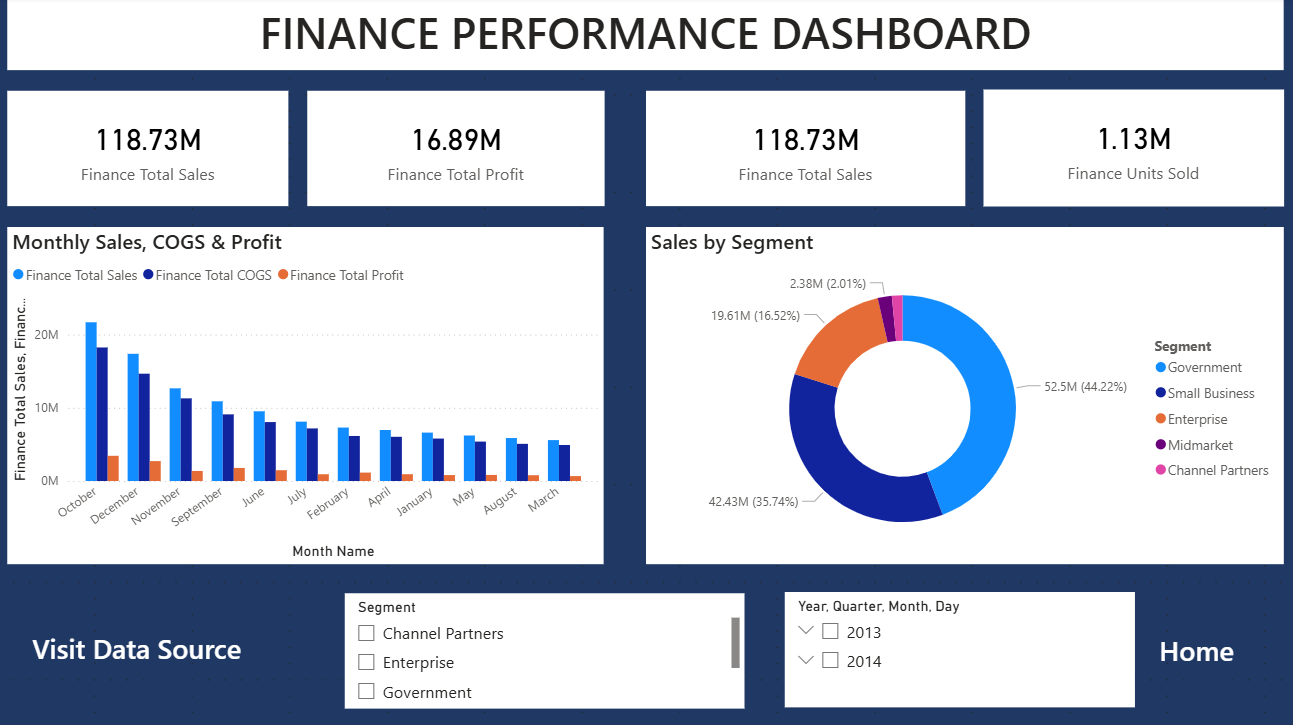

What the dashboard file says about the page in this screenshot:
{"tool":"powerbi","page":{"name":"Q9. Finance Dashboard","canvas":[1280,720],"ordinal":10},"visuals":[{"type":"textbox","box":[10.9,0,1257.1,72.4],"z":0},{"type":"card","fields":{"Values":["BoxOffice_Master.Finance Total Sales"]},"box":[11.5,92.3,277,114],"z":1},{"type":"card","fields":{"Values":["BoxOffice_Master.Finance Total Profit"]},"box":[305.9,92.3,292.9,114],"z":2},{"type":"card","fields":{"Values":["BoxOffice_Master.Finance Total Sales"]},"box":[640.6,92.3,314.5,114],"z":3},{"type":"card","fields":{"Values":["BoxOffice_Master.Finance Units Sold"]},"box":[972.4,90.9,295.8,115.4],"z":4},{"type":"clusteredColumnChart","title":"Monthly Sales, COGS & Profit","fields":{"Category":["Finance.Month Name"],"Y":["BoxOffice_Master.Finance Total Sales","BoxOffice_Master.Finance Total COGS","BoxOffice_Master.Finance Total Profit"]},"box":[11.5,226.5,587.2,331.8],"z":5},{"type":"donutChart","title":"Sales by Segment","fields":{"Category":["Finance.Segment"],"Y":["BoxOffice_Master.Finance Total Sales"]},"box":[640.6,226.5,627.6,331.8],"z":6},{"type":"slicer","fields":{"Values":["Finance.Date.Variation.Date Hierarchy.Year","Finance.Date.Variation.Date Hierarchy.Quarter","Finance.Date.Variation.Date Hierarchy.Month","Finance.Date.Variation.Date Hierarchy.Day"]},"box":[776.2,585.8,344.8,114],"z":7},{"type":"slicer","fields":{"Values":["Finance.Segment"]},"box":[343.4,587.2,393.9,114],"z":8},{"type":"actionButton","title":"Home","box":[1132.6,624.7,99.6,40.4],"z":10},{"type":"actionButton","title":"Visit Data Source","box":[36.1,623.3,228,40.4],"z":11}]}

Visuals, with their boxes in screenshot pixels (x1, y1, x2, y2), scaled from the page's 1280x720 canvas onto the 1293x725 screenshot:
textbox: {"left": 11, "top": 0, "right": 1281, "bottom": 73}
card - BoxOffice_Master.Finance Total Sales: {"left": 12, "top": 93, "right": 291, "bottom": 208}
card - BoxOffice_Master.Finance Total Profit: {"left": 309, "top": 93, "right": 605, "bottom": 208}
card - BoxOffice_Master.Finance Total Sales: {"left": 647, "top": 93, "right": 965, "bottom": 208}
card - BoxOffice_Master.Finance Units Sold: {"left": 982, "top": 92, "right": 1281, "bottom": 208}
"Monthly Sales, COGS & Profit" clusteredColumnChart: {"left": 12, "top": 228, "right": 605, "bottom": 562}
"Sales by Segment" donutChart: {"left": 647, "top": 228, "right": 1281, "bottom": 562}
slicer - Finance.Date.Variation.Date Hierarchy.Year x Finance.Date.Variation.Date Hierarchy.Quarter: {"left": 784, "top": 590, "right": 1132, "bottom": 705}
slicer - Finance.Segment: {"left": 347, "top": 591, "right": 745, "bottom": 706}
"Home" actionButton: {"left": 1144, "top": 629, "right": 1245, "bottom": 670}
"Visit Data Source" actionButton: {"left": 36, "top": 628, "right": 267, "bottom": 668}
